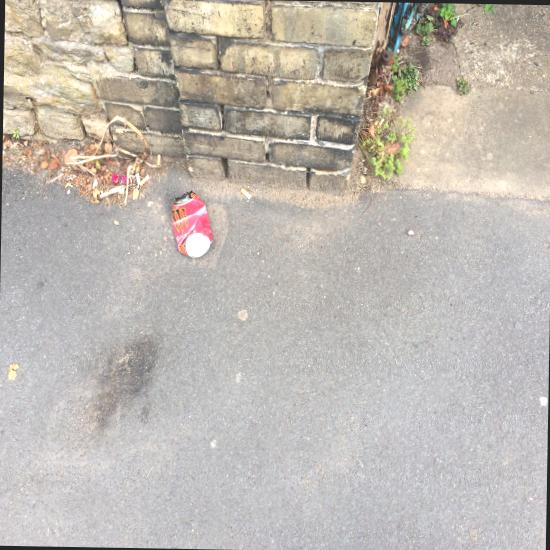Clear plastic bottle: (135, 373, 144, 388), (140, 378, 147, 388)
